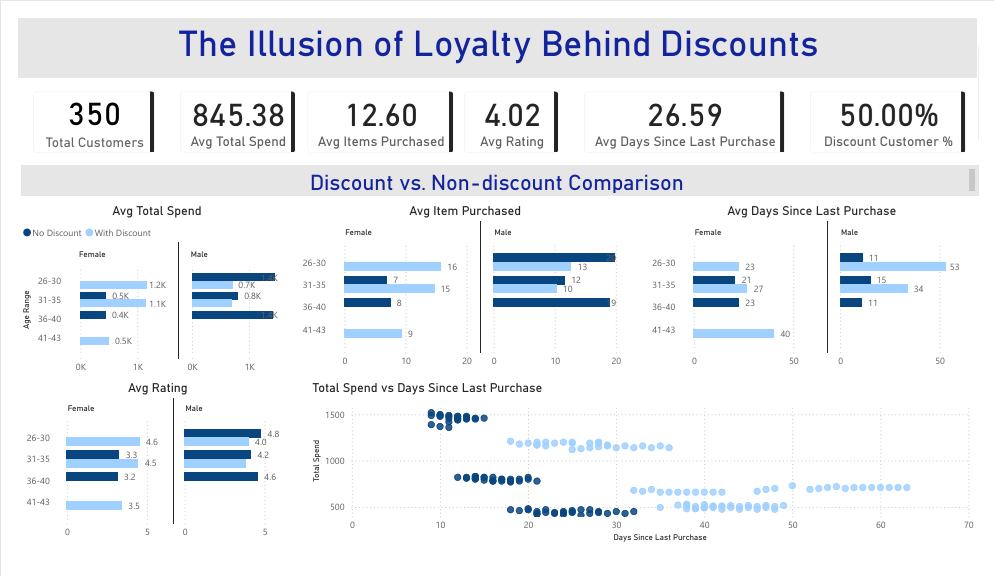

What the dashboard file says about the page in this screenshot:
{"tool":"powerbi","page":{"name":"Page 1","canvas":[1280,720],"ordinal":0},"visuals":[{"type":"cardVisual","fields":{"Data":["E-commerce Customer Behavior - Sheet1.Avg Total Spend"]},"box":[198,80.5,187.3,115.6],"z":0},{"type":"cardVisual","fields":{"Data":["E-commerce Customer Behavior - Sheet1.Avg Items Purchased"]},"box":[367.8,80.5,228.3,115.6],"z":1000},{"type":"cardVisual","fields":{"Data":["E-commerce Customer Behavior - Sheet1.Discount Customer %"]},"box":[1038,80.5,241.5,115.6],"z":2000},{"type":"cardVisual","fields":{"Data":["E-commerce Customer Behavior - Sheet1.Avg Days Since Last Purchase"]},"box":[736.6,80.5,301.5,115.6],"z":3000},{"type":"cardVisual","fields":{"Data":["E-commerce Customer Behavior - Sheet1.Avg Rating"]},"box":[577,80.5,159.5,115.6],"z":4000},{"type":"cardVisual","title":"Total Customers","fields":{"Data":["E-commerce Customer Behavior - Sheet1.Total Customers"]},"box":[1.9,80.5,196.1,115.6],"z":5000},{"type":"textbox","box":[0,0,1277.6,79],"z":6000},{"type":"textbox","box":[2.9,196.1,1277.6,41],"z":7000},{"type":"clusteredBarChart","title":"Avg Total Spend","fields":{"Y":["E-commerce Customer Behavior - Sheet1.Avg Total Spend"],"Series":["E-commerce Customer Behavior - Sheet1.Discount Group"],"Category":["E-commerce Customer Behavior - Sheet1.Age Range"],"Rows":["E-commerce Customer Behavior - Sheet1.Gender"]},"box":[0,246,368,236],"z":8000},{"type":"clusteredBarChart","title":"Avg Item Purchased","fields":{"Series":["E-commerce Customer Behavior - Sheet1.Discount Group"],"Category":["E-commerce Customer Behavior - Sheet1.Age Range"],"Rows":["E-commerce Customer Behavior - Sheet1.Gender"],"Y":["E-commerce Customer Behavior - Sheet1.Avg Items Purchased"]},"box":[370,246,450,228],"z":9000},{"type":"clusteredBarChart","title":"Avg Rating","fields":{"Series":["E-commerce Customer Behavior - Sheet1.Discount Group"],"Category":["E-commerce Customer Behavior - Sheet1.Age Range"],"Rows":["E-commerce Customer Behavior - Sheet1.Gender"],"Y":["E-commerce Customer Behavior - Sheet1.Avg Rating"]},"box":[2,482,366,220],"z":10000},{"type":"clusteredBarChart","title":"Avg Days Since Last Purchase","fields":{"Series":["E-commerce Customer Behavior - Sheet1.Discount Group"],"Category":["E-commerce Customer Behavior - Sheet1.Age Range"],"Rows":["E-commerce Customer Behavior - Sheet1.Gender"],"Y":["E-commerce Customer Behavior - Sheet1.Avg Days Since Last Purchase"]},"box":[836,246,442,228],"z":11000},{"type":"scatterChart","title":"Total Spend vs Days Since Last Purchase","fields":{"Y":["E-commerce Customer Behavior - Sheet1.Total Spend"],"X":["E-commerce Customer Behavior - Sheet1.Days Since Last Purchase"],"Series":["E-commerce Customer Behavior - Sheet1.Discount Group"]},"box":[386,482,892,220],"z":12000}]}

Visuals, with their boxes in screenshot pixels (x1, y1, x2, y2), scaled from the page's 1280x720 canvas onto the 994x576 screenshot:
cardVisual - E-commerce Customer Behavior - Sheet1.Avg Total Spend: (left=154, top=64, right=299, bottom=157)
cardVisual - E-commerce Customer Behavior - Sheet1.Avg Items Purchased: (left=286, top=64, right=463, bottom=157)
cardVisual - E-commerce Customer Behavior - Sheet1.Discount Customer %: (left=806, top=64, right=993, bottom=157)
cardVisual - E-commerce Customer Behavior - Sheet1.Avg Days Since Last Purchase: (left=572, top=64, right=806, bottom=157)
cardVisual - E-commerce Customer Behavior - Sheet1.Avg Rating: (left=448, top=64, right=572, bottom=157)
"Total Customers" cardVisual: (left=1, top=64, right=154, bottom=157)
textbox: (left=0, top=0, right=992, bottom=63)
textbox: (left=2, top=157, right=993, bottom=190)
"Avg Total Spend" clusteredBarChart: (left=0, top=197, right=286, bottom=386)
"Avg Item Purchased" clusteredBarChart: (left=287, top=197, right=637, bottom=379)
"Avg Rating" clusteredBarChart: (left=2, top=386, right=286, bottom=562)
"Avg Days Since Last Purchase" clusteredBarChart: (left=649, top=197, right=992, bottom=379)
"Total Spend vs Days Since Last Purchase" scatterChart: (left=300, top=386, right=992, bottom=562)
